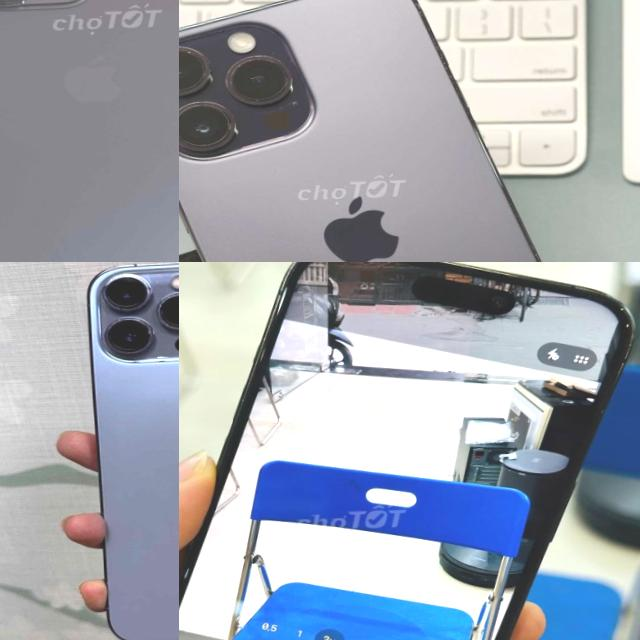gen_12_13: (66, 262, 179, 640)
gen_14: (179, 0, 620, 262), (0, 0, 179, 262)
gen_15: (179, 262, 640, 640)
